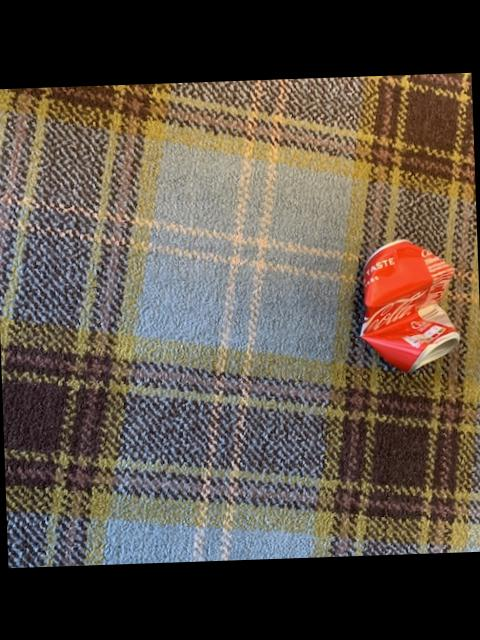metal: (360, 241, 458, 372)
